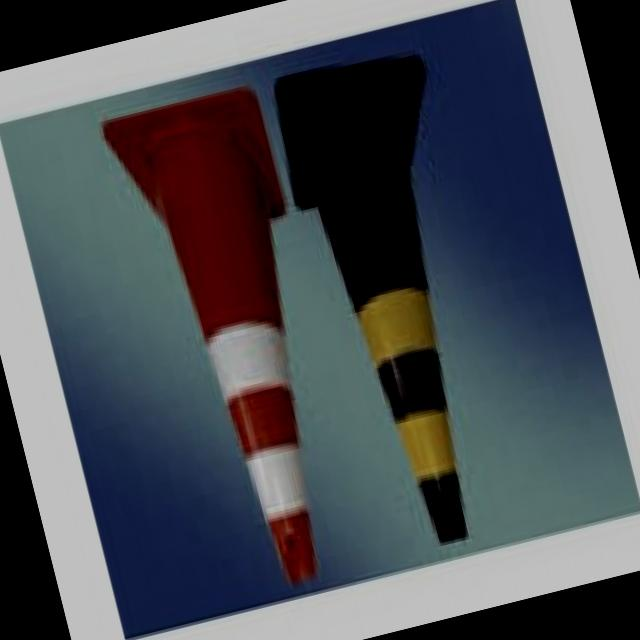cone: (105, 71, 372, 586), (266, 39, 530, 552)
